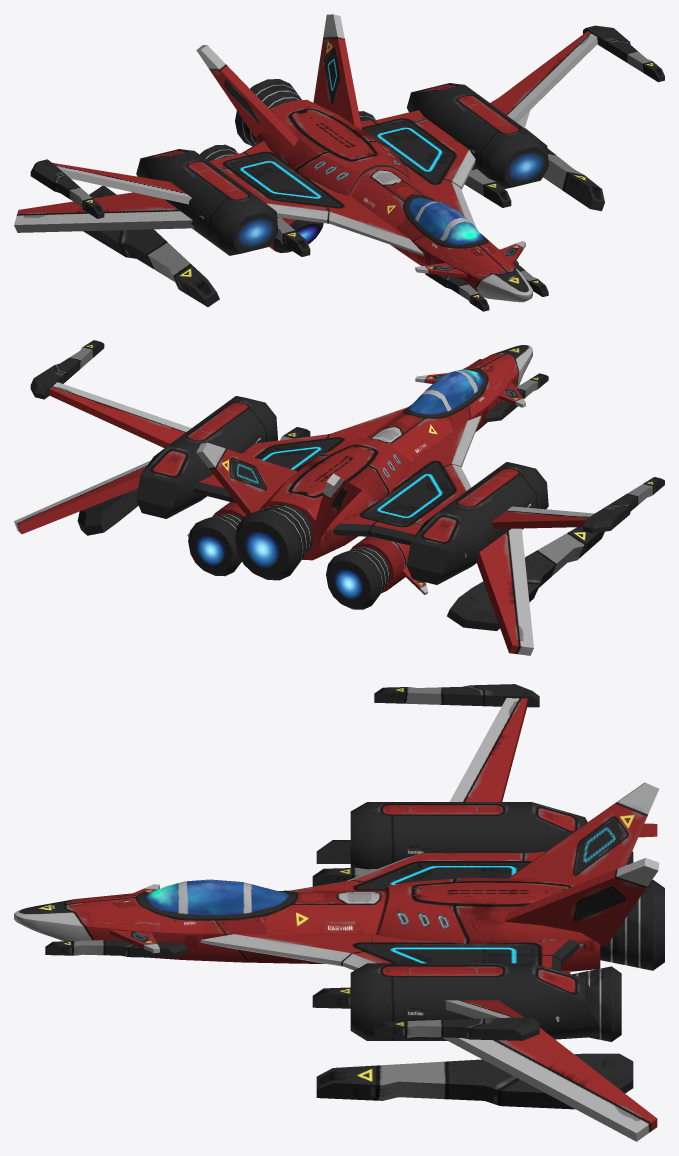
File: RedL2M2R1.fbx
3 views of the same model, one above another, from view 1: azimuth 30°, elevation 25°; view 2: azimuth 150°, elevation 25°; view 3: azimuth 270°, elevation 25° (orthographic). The views are drawn at different scales.
Visible parts, largest first — view 1: StarSparrow01; view 2: StarSparrow01; view 3: StarSparrow01.
Part boxes in pixels (x1,y1,x2,y2): StarSparrow01: (14,14,664,311); StarSparrow01: (14,340,664,655); StarSparrow01: (14,684,664,1141).
Size of the model in its own units: 1364 by 326 by 1085.
1 material, 1 textured.
